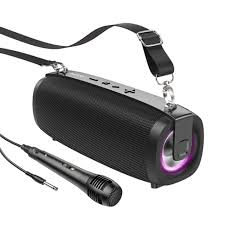microphone: (1, 144, 123, 213)
speaker: (30, 63, 210, 182)
